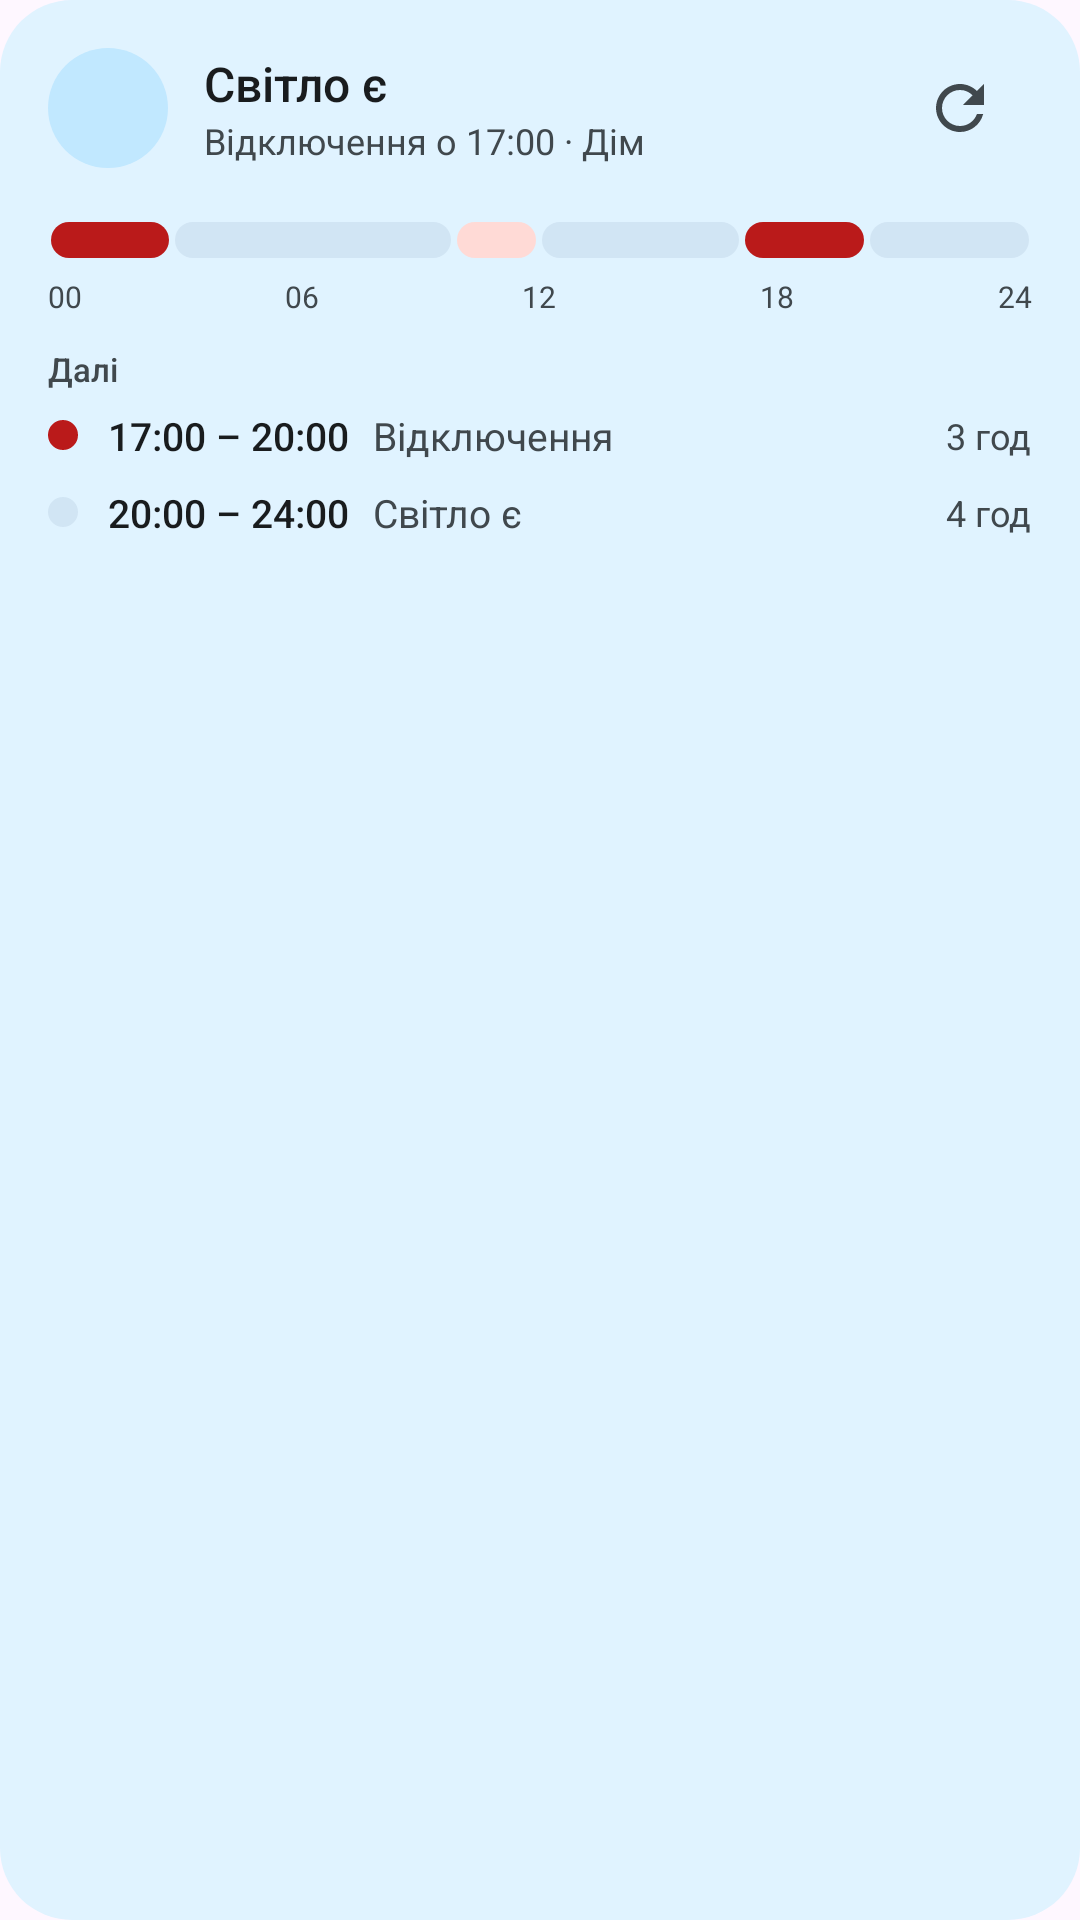

Named icons in this screenshot (1080*1920) and their centers, (x=x, y=y):
widget refresh: (x=960, y=108)
